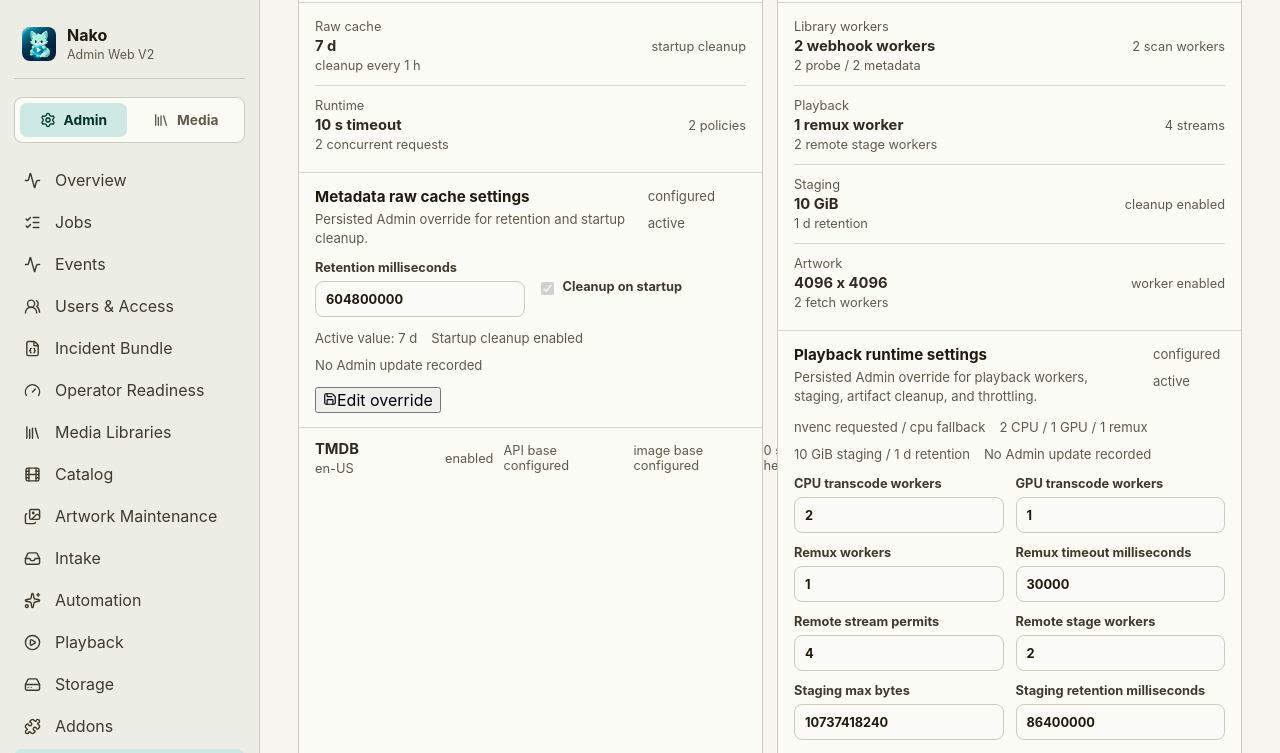
Test case: Admin Web V2 route shell › saves metadata raw cache settings only after confirmation on live Settings data
(page scrolled)
expect the text "Metadata raw cache settings" is shown: met, box [315,187,530,206]
Click the button "Edit override".
click(378, 400)  # box [315,387,441,413]
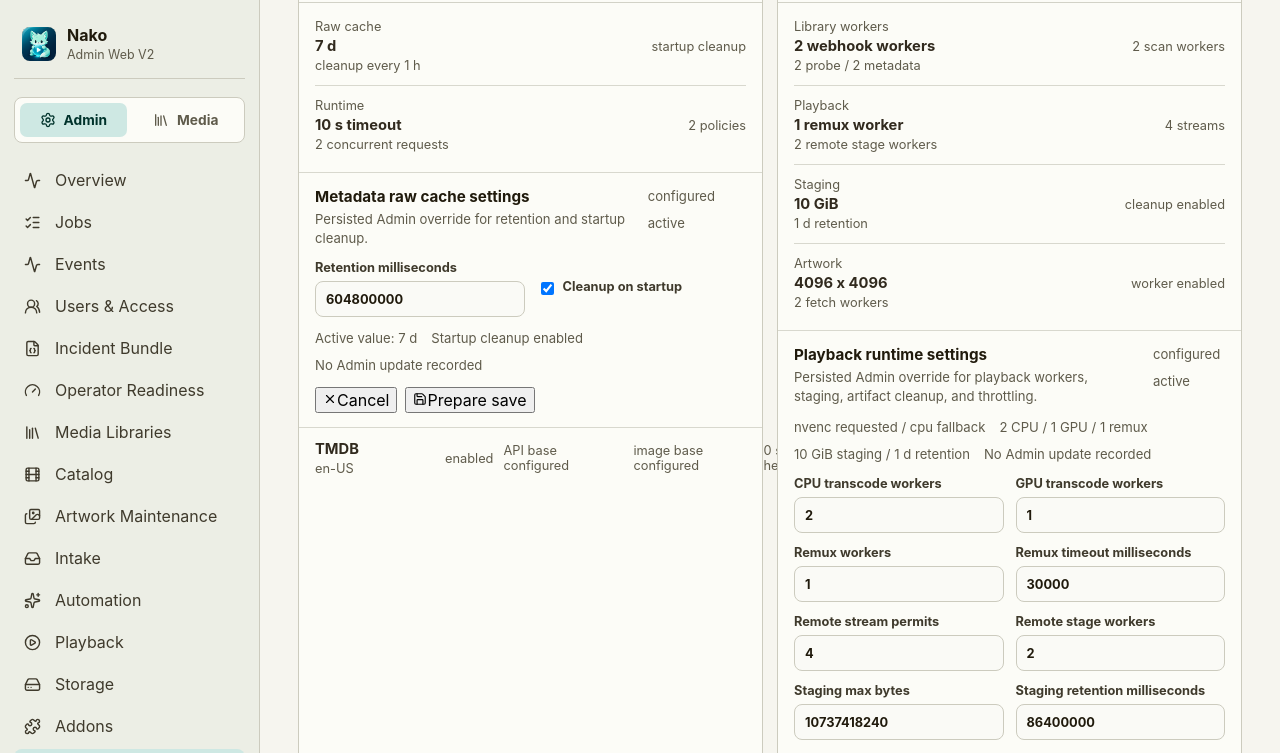
Replace the text in the number field labelled "Retention milliseconds" with "3600000" at {"x": 420, "y": 299}, box [315,281,524,317]
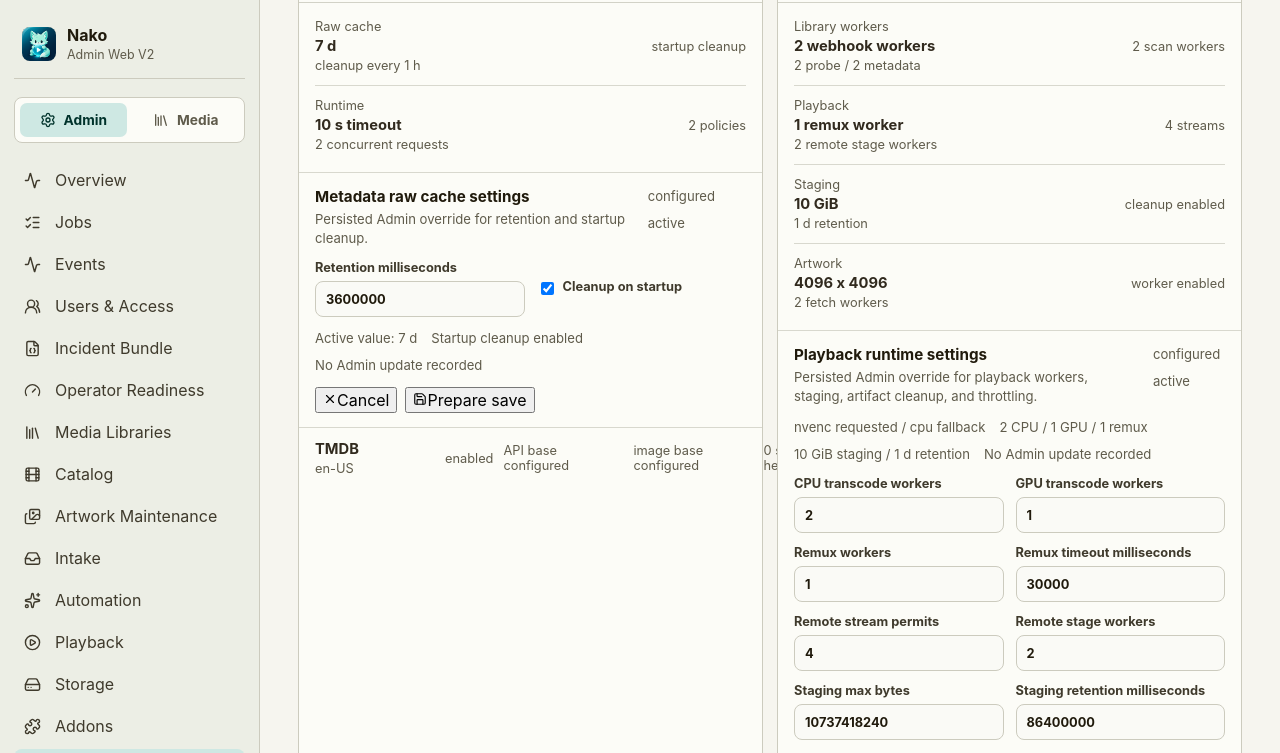
Click the checkbox labelled "Cleanup on startup".
click(547, 289)  # box [540,282,554,295]
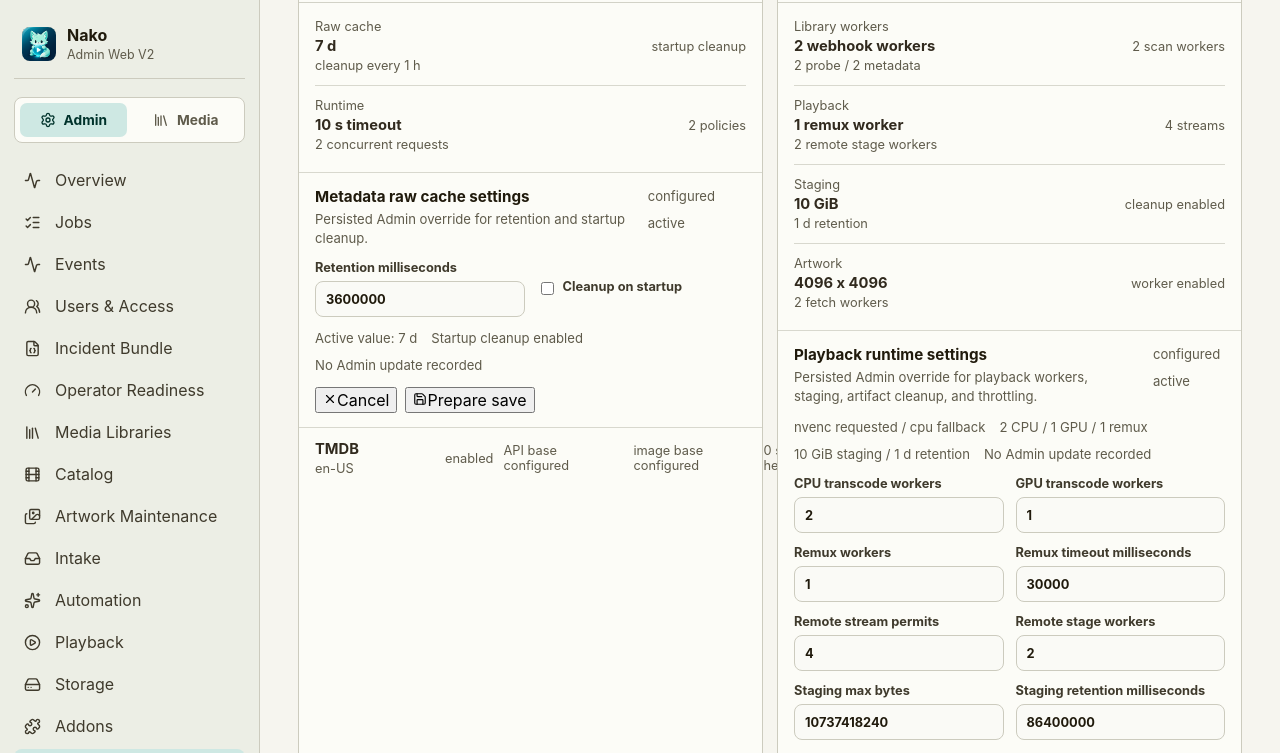
Click the button "Prepare save".
click(470, 400)  # box [406,387,534,413]
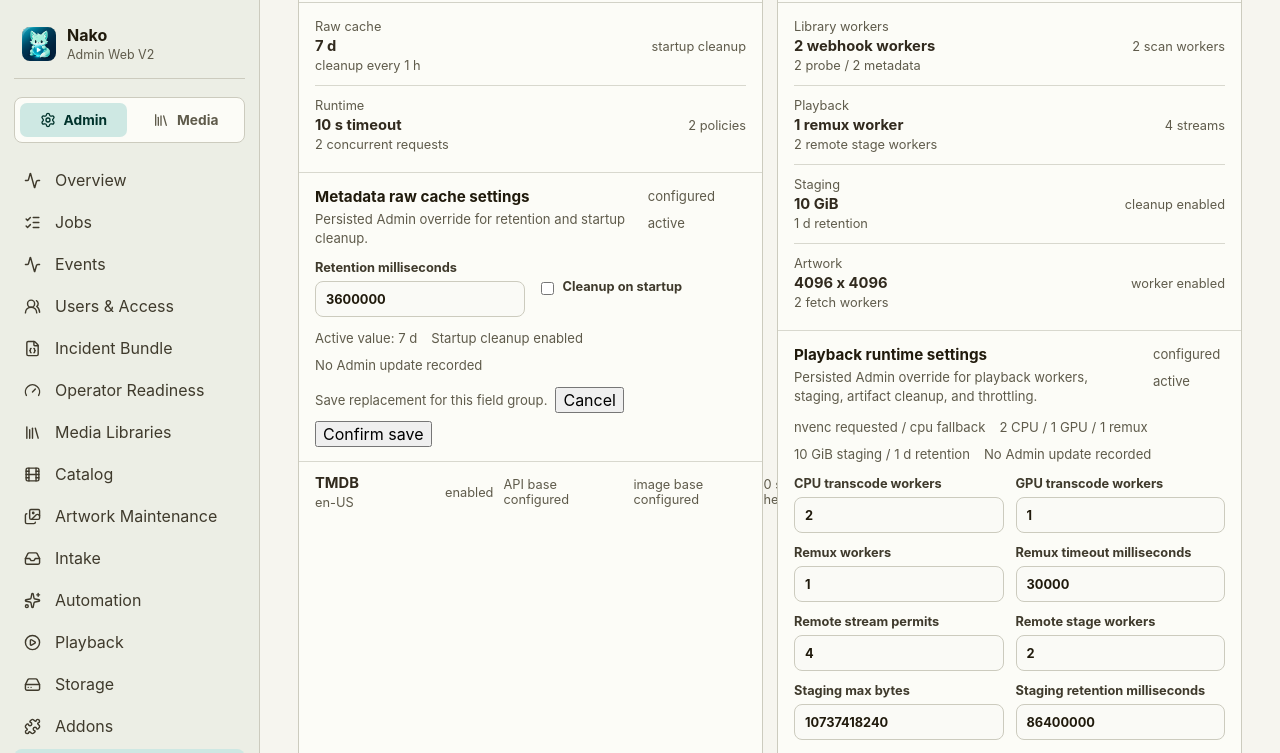
Click the button "Confirm save".
click(373, 434)  # box [315,421,432,447]
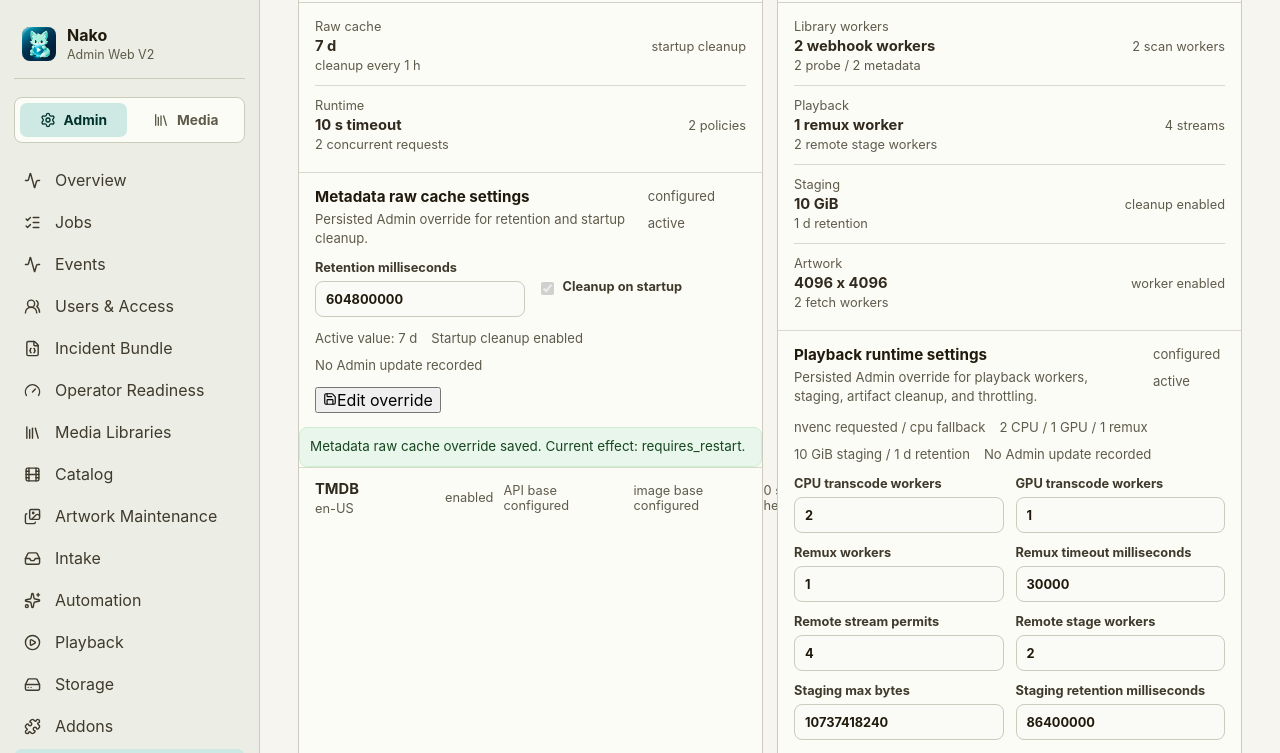
expect the text "requires_restart" is shown: met, box [310,438,745,454]
